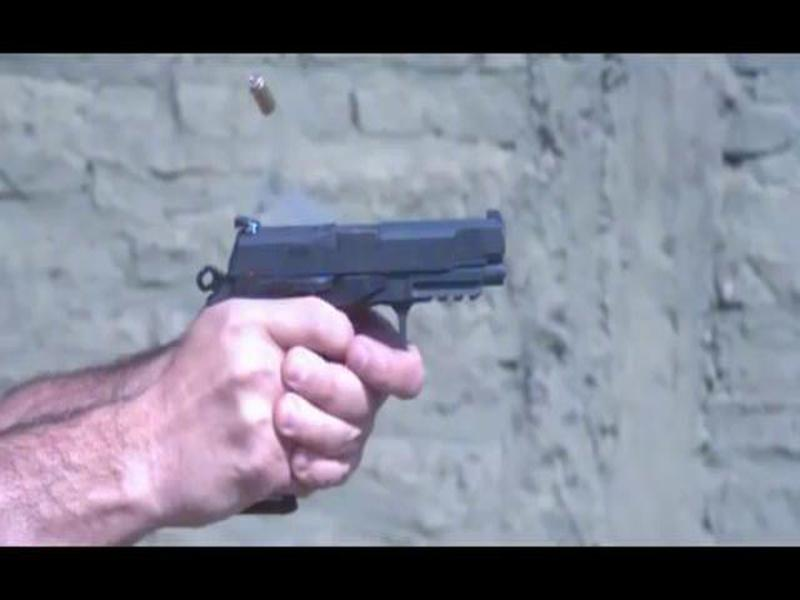Pistola: (190, 204, 524, 424)
